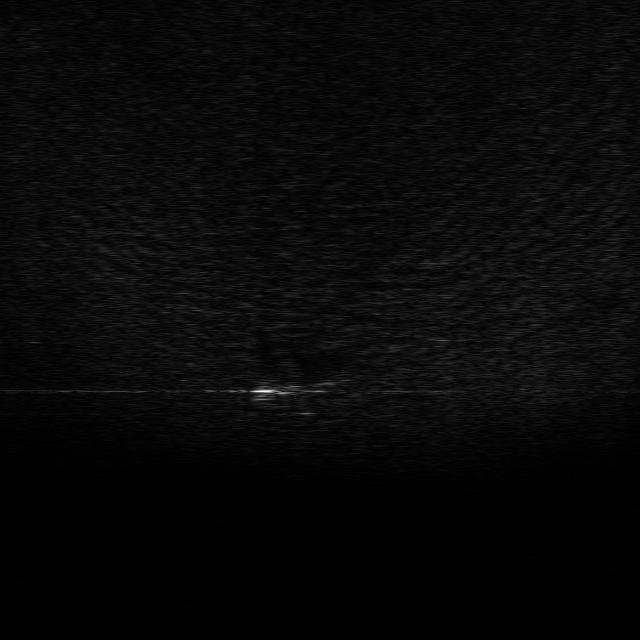plane: (245, 360, 346, 418)
